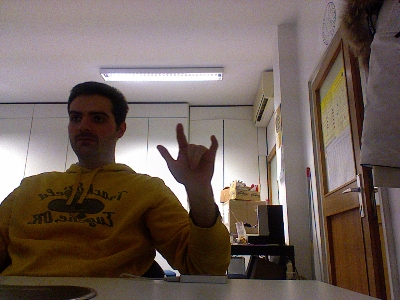我爱你: (154, 119, 220, 188)
